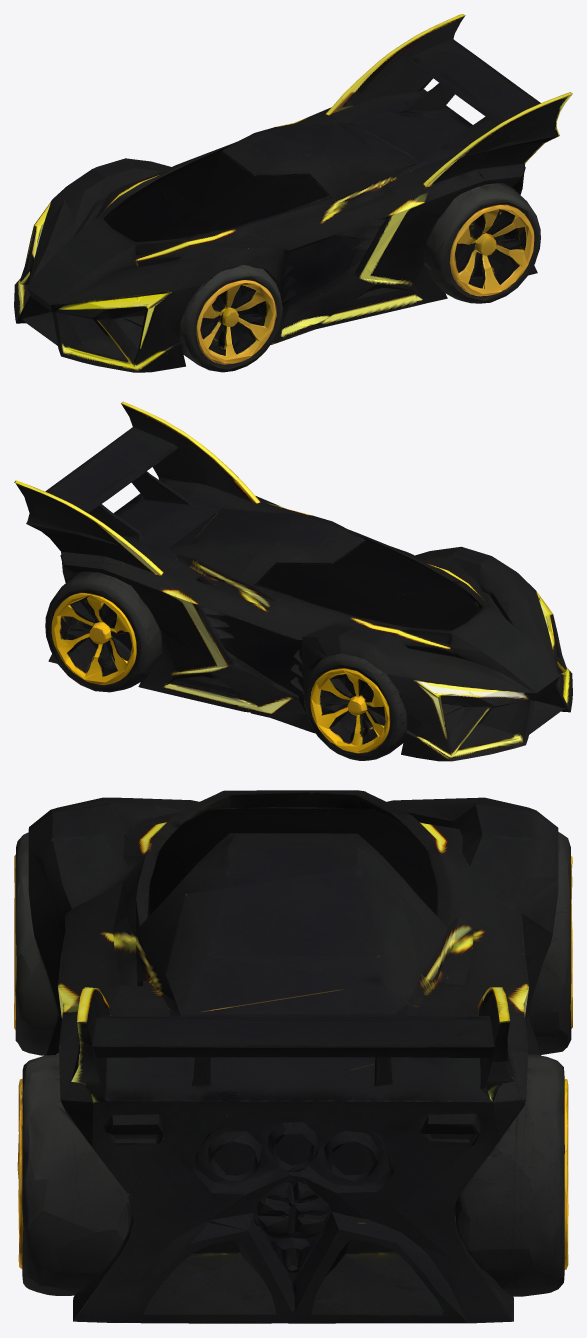
File: night_raven.glb
3 renders of one model, top to bottom at view 1: azimuth 30°, elevation 25°; view 2: azimuth 150°, elevation 25°; view 3: azimuth 270°, elevation 25°, orthographic. The views are drawn at different scales.
Bounding box in the file's own units: 1.9 × 0.6955 × 0.9723.
1 material, 1 textured.
